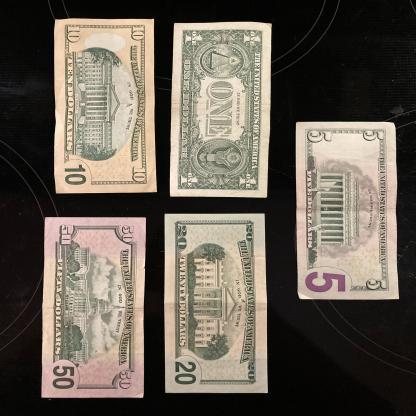dollar_back: (40, 216, 147, 398), (294, 121, 400, 300), (164, 212, 268, 393), (54, 18, 156, 195), (169, 22, 272, 197)
